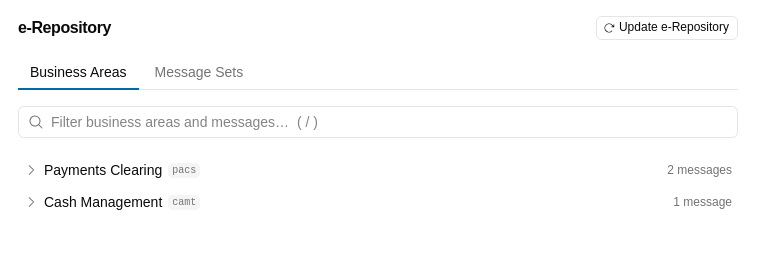
ERepositoryBrowser › flags groups that already have a MIG
Click the text "Payments Clearing" at [103, 170], box [44,160,162,180]
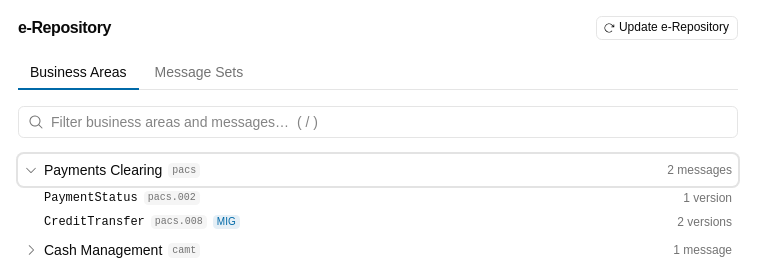
Result: the text "MIG" is shown at [213,215,240,229]
